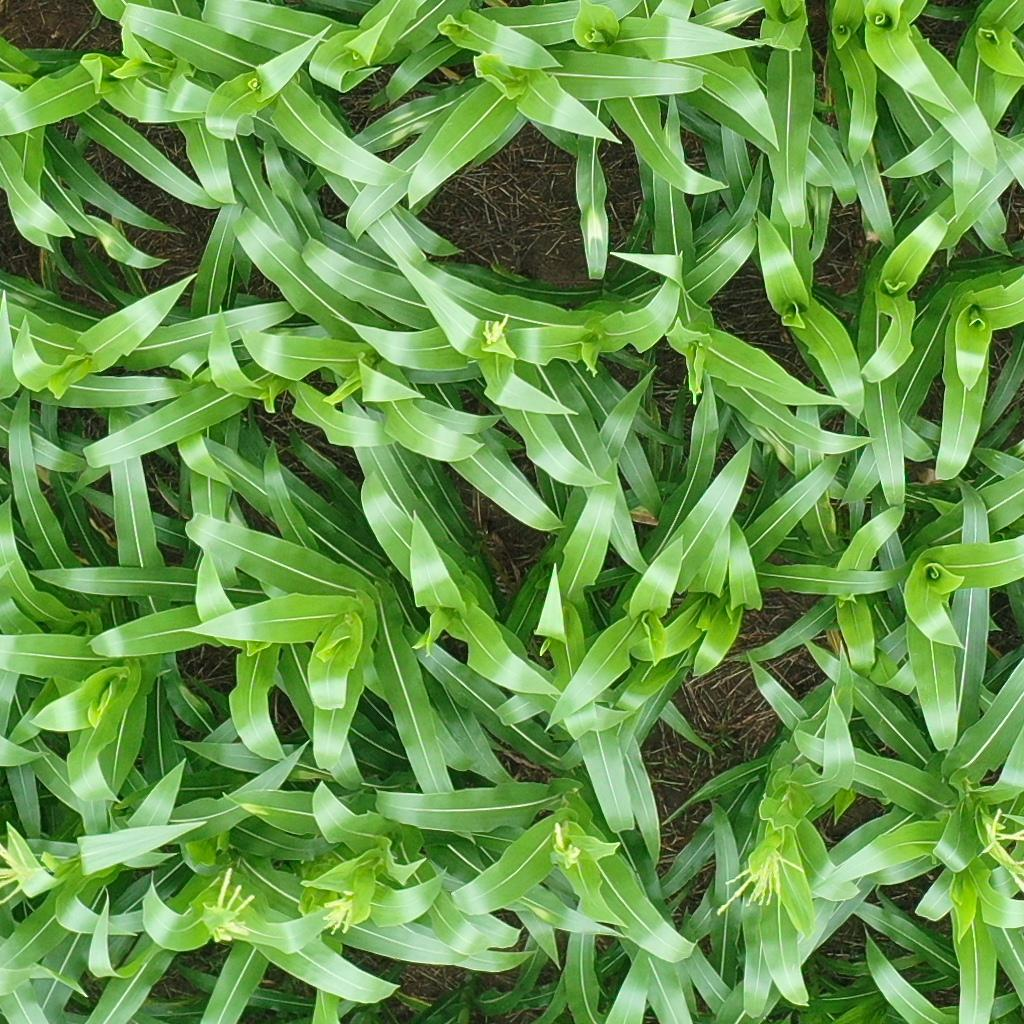Tassel: (713, 846, 807, 917), (200, 864, 256, 945), (982, 804, 1024, 896), (1, 839, 54, 907), (551, 819, 582, 872), (320, 893, 357, 936), (480, 311, 509, 345)
